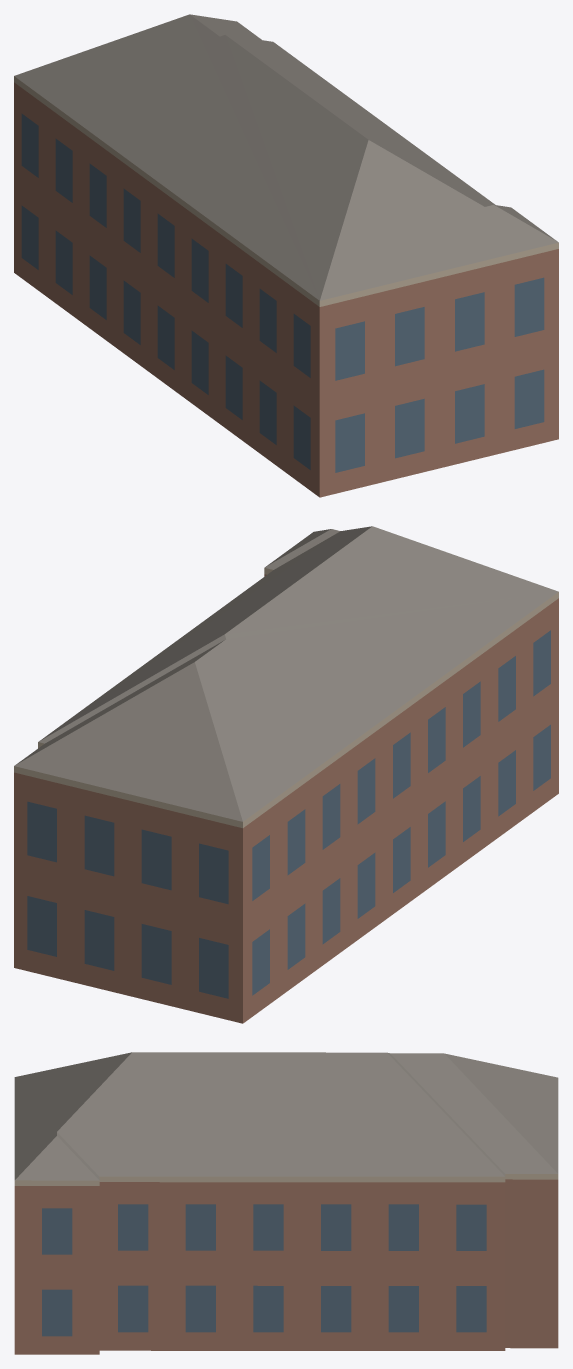
The model's file is dc-au-hamilton-building.glb.
3 renders of one model, top to bottom at view 1: azimuth 30°, elevation 25°; view 2: azimuth 150°, elevation 25°; view 3: azimuth 270°, elevation 25°, orthographic. The views are drawn at different scales.
Visible parts, largest first — view 1: Hamilton Building; view 2: Hamilton Building; view 3: Hamilton Building.
Part boxes in pixels (box(x1,y1,x2,y2)): Hamilton Building: box(14, 14, 558, 497); Hamilton Building: box(14, 526, 558, 1023); Hamilton Building: box(14, 1052, 558, 1354).
Bounding box in the file's own units: 12.94 × 14.43 × 28.64.
